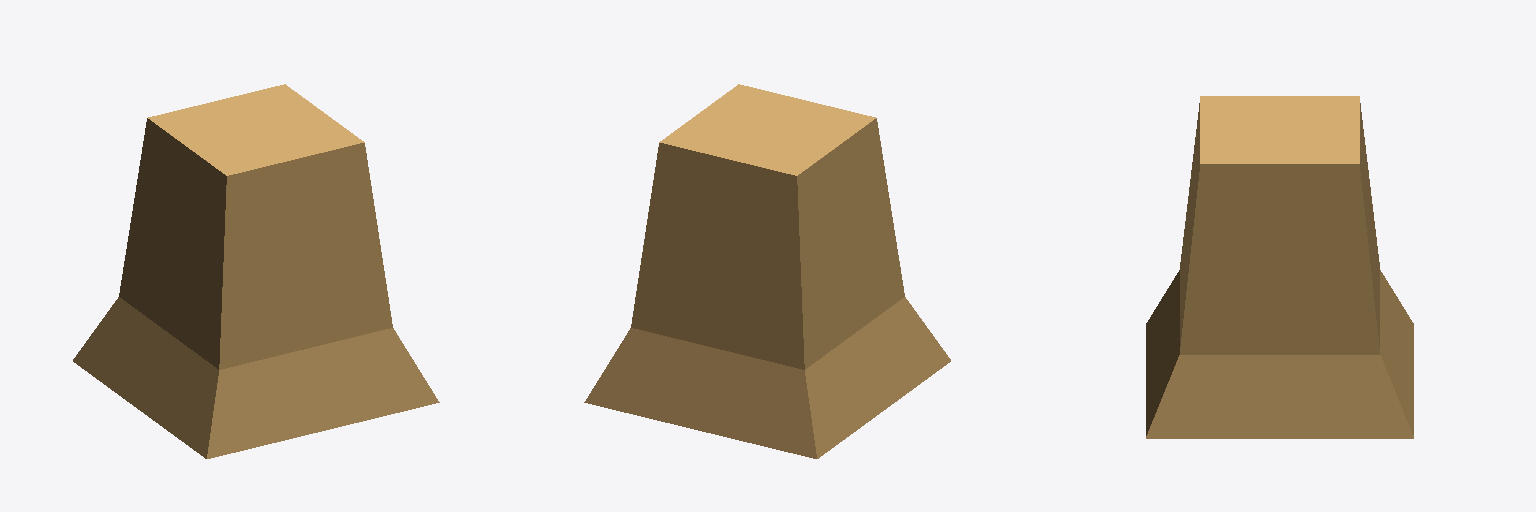
The model's file is Trunk_02.obj.
3 renders of one model, left to right at view 1: azimuth 30°, elevation 25°; view 2: azimuth 150°, elevation 25°; view 3: azimuth 270°, elevation 25°, orthographic.
Parts seen in each view (by area): view 1: Mesh1_Trunk_Model.001; view 2: Mesh1_Trunk_Model.001; view 3: Mesh1_Trunk_Model.001.
Part boxes in pixels (x1,y1,x2,y2): Mesh1_Trunk_Model.001: (73,84,439,458); Mesh1_Trunk_Model.001: (584,84,950,458); Mesh1_Trunk_Model.001: (1146,96,1413,438).
Size of the model in its own units: 0.8037 by 0.83 by 0.8037.